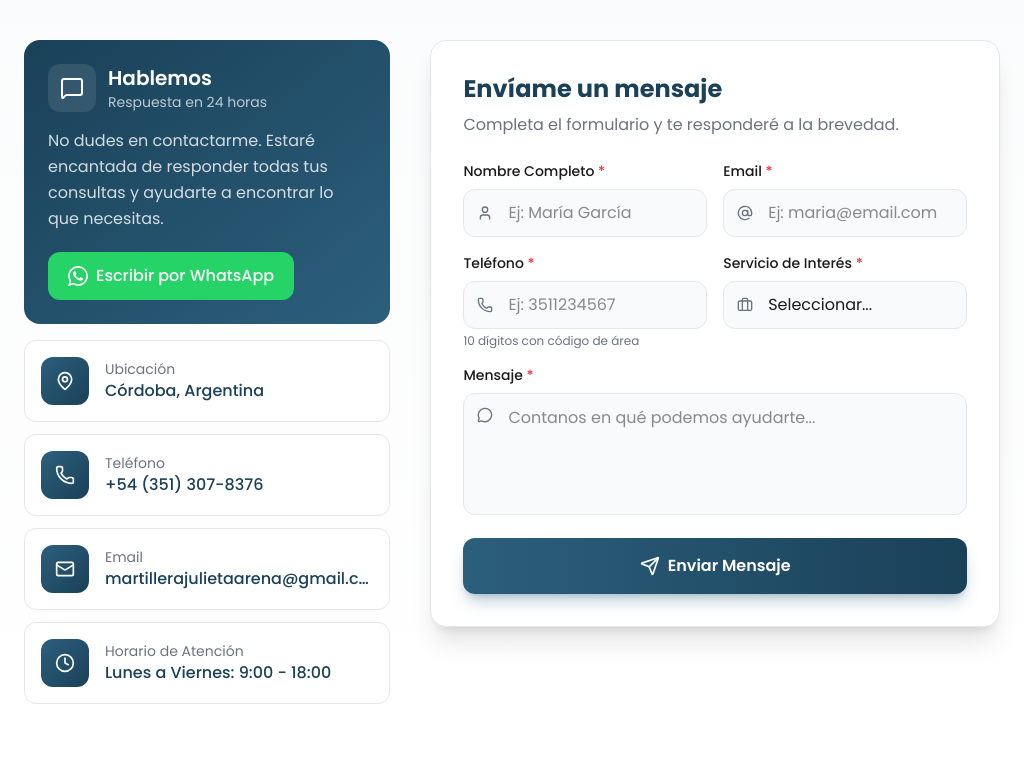
Test: Contact Form › shows validation errors on empty submit
The image size is (1024, 768).
(page scrolled)
Step 1. Click the button "Enviar Mensaje" → (715, 566), box x1=463 y1=538 x2=967 y2=594
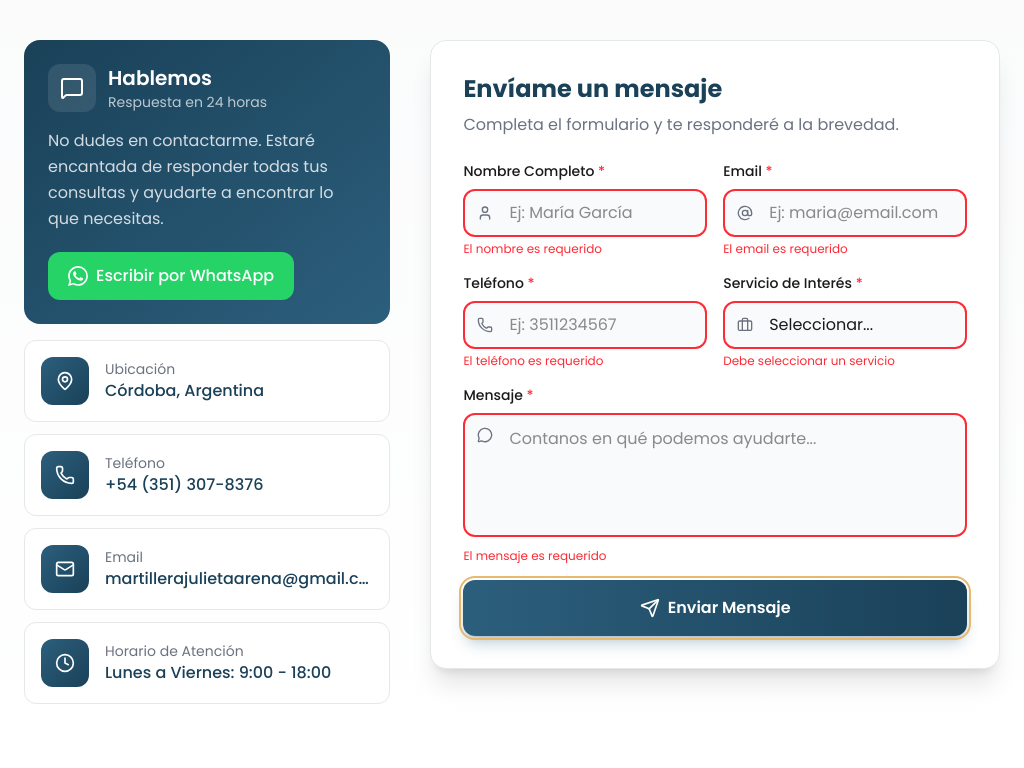
Result: the text "El nombre es requerido" is shown at x1=463 y1=240 x2=602 y2=256
Result: the text "El email es requerido" is shown at x1=723 y1=240 x2=848 y2=256
Result: the text "El teléfono es requerido" is shown at x1=463 y1=352 x2=603 y2=368
